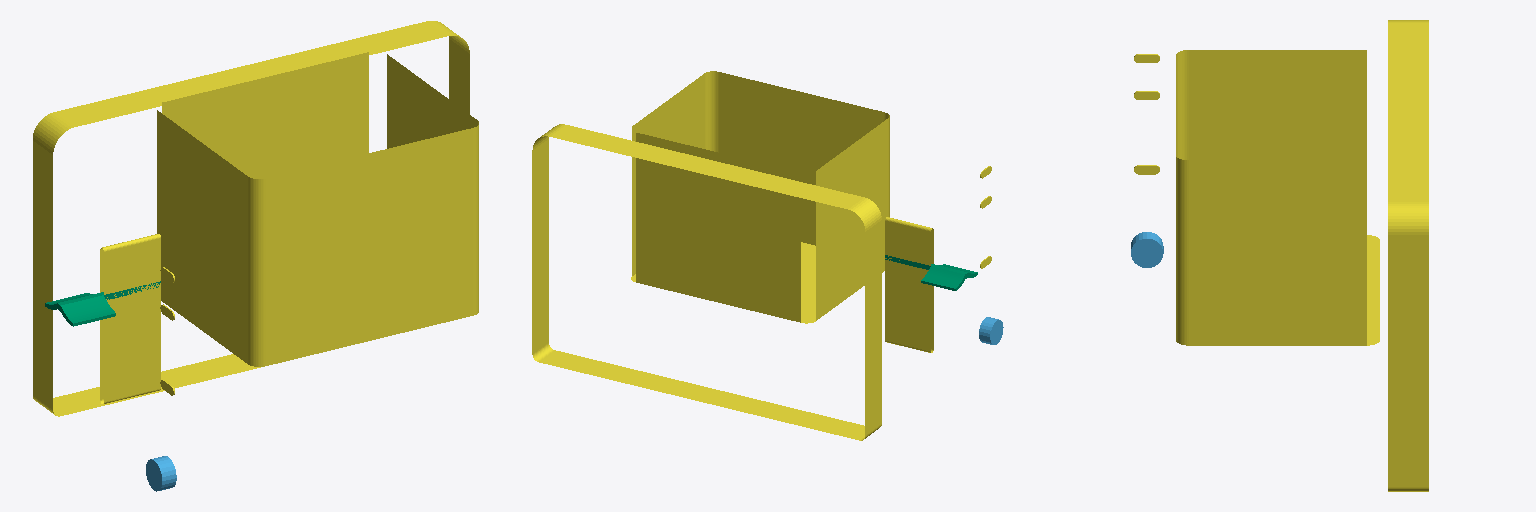
URDF robot description (partnet_5cc5ebd0-9ada-43f9-a3cf-dc3018305176):
<?xml version="1.0" ?>
<robot name="partnet_5cc5ebd0-9ada-43f9-a3cf-dc3018305176">
	<link name="base"/>
	<link name="link_0">
		<visual name="button-3">
			<origin xyz="-0.39776 0.354722 0"/>
			<geometry>
				<mesh filename="textured_objs/original-16.obj"/>
			</geometry>
		</visual>
		<collision>
			<origin xyz="-0.39776 0.354722 0"/>
			<geometry>
				<mesh filename="textured_objs/original-16.obj"/>
			</geometry>
		</collision>
	</link>
	<joint name="joint_0" type="fixed">
		<origin xyz="0.39776 -0.354722 0"/>
		<axis xyz="0 0 1"/>
		<child link="link_0"/>
		<parent link="link_2"/>
	</joint>
	<link name="link_1">
		<visual name="slider-4">
			<origin xyz="0 0 0"/>
			<geometry>
				<mesh filename="textured_objs/original-11.obj"/>
			</geometry>
		</visual>
		<collision>
			<origin xyz="0 0 0"/>
			<geometry>
				<mesh filename="textured_objs/original-11.obj"/>
			</geometry>
		</collision>
	</link>
	<joint name="joint_1" type="fixed">
		<origin xyz="0 0 0"/>
		<axis xyz="0 -1 0"/>
		<child link="link_1"/>
		<parent link="link_2"/>
		<limit lower="-0.15600000000000014" upper="0.3440000000000001"/>
	</joint>
	<link name="link_2">
		<visual name="base_body-5">
			<origin xyz="0 0 0"/>
			<geometry>
				<mesh filename="textured_objs/original-21.obj"/>
			</geometry>
		</visual>
		<visual name="base_body-5">
			<origin xyz="0 0 0"/>
			<geometry>
				<mesh filename="textured_objs/original-22.obj"/>
			</geometry>
		</visual>
		<visual name="base_body-5">
			<origin xyz="0 0 0"/>
			<geometry>
				<mesh filename="textured_objs/original-4.obj"/>
			</geometry>
		</visual>
		<visual name="base_body-5">
			<origin xyz="0 0 0"/>
			<geometry>
				<mesh filename="textured_objs/original-3.obj"/>
			</geometry>
		</visual>
		<visual name="base_body-5">
			<origin xyz="0 0 0"/>
			<geometry>
				<mesh filename="textured_objs/original-2.obj"/>
			</geometry>
		</visual>
		<visual name="base_body-5">
			<origin xyz="0 0 0"/>
			<geometry>
				<mesh filename="textured_objs/original-8.obj"/>
			</geometry>
		</visual>
		<visual name="base_body-5">
			<origin xyz="0 0 0"/>
			<geometry>
				<mesh filename="textured_objs/original-13.obj"/>
			</geometry>
		</visual>
		<visual name="base_body-5">
			<origin xyz="0 0 0"/>
			<geometry>
				<mesh filename="textured_objs/original-9.obj"/>
			</geometry>
		</visual>
		<visual name="base_body-5">
			<origin xyz="0 0 0"/>
			<geometry>
				<mesh filename="textured_objs/original-5.obj"/>
			</geometry>
		</visual>
		<visual name="base_body-5">
			<origin xyz="0 0 0"/>
			<geometry>
				<mesh filename="textured_objs/original-6.obj"/>
			</geometry>
		</visual>
		<visual name="base_body-5">
			<origin xyz="0 0 0"/>
			<geometry>
				<mesh filename="textured_objs/original-15.obj"/>
			</geometry>
		</visual>
		<visual name="base_body-5">
			<origin xyz="0 0 0"/>
			<geometry>
				<mesh filename="textured_objs/original-23.obj"/>
			</geometry>
		</visual>
		<visual name="base_body-5">
			<origin xyz="0 0 0"/>
			<geometry>
				<mesh filename="textured_objs/original-18.obj"/>
			</geometry>
		</visual>
		<visual name="base_body-5">
			<origin xyz="0 0 0"/>
			<geometry>
				<mesh filename="textured_objs/original-12.obj"/>
			</geometry>
		</visual>
		<visual name="base_body-5">
			<origin xyz="0 0 0"/>
			<geometry>
				<mesh filename="textured_objs/original-7.obj"/>
			</geometry>
		</visual>
		<visual name="base_body-5">
			<origin xyz="0 0 0"/>
			<geometry>
				<mesh filename="textured_objs/original-10.obj"/>
			</geometry>
		</visual>
		<visual name="base_body-5">
			<origin xyz="0 0 0"/>
			<geometry>
				<mesh filename="textured_objs/original-14.obj"/>
			</geometry>
		</visual>
		<visual name="base_body-5">
			<origin xyz="0 0 0"/>
			<geometry>
				<mesh filename="textured_objs/original-19.obj"/>
			</geometry>
		</visual>
		<collision>
			<origin xyz="0 0 0"/>
			<geometry>
				<mesh filename="textured_objs/original-21.obj"/>
			</geometry>
		</collision>
		<collision>
			<origin xyz="0 0 0"/>
			<geometry>
				<mesh filename="textured_objs/original-22.obj"/>
			</geometry>
		</collision>
		<collision>
			<origin xyz="0 0 0"/>
			<geometry>
				<mesh filename="textured_objs/original-4.obj"/>
			</geometry>
		</collision>
		<collision>
			<origin xyz="0 0 0"/>
			<geometry>
				<mesh filename="textured_objs/original-3.obj"/>
			</geometry>
		</collision>
		<collision>
			<origin xyz="0 0 0"/>
			<geometry>
				<mesh filename="textured_objs/original-2.obj"/>
			</geometry>
		</collision>
		<collision>
			<origin xyz="0 0 0"/>
			<geometry>
				<mesh filename="textured_objs/original-8.obj"/>
			</geometry>
		</collision>
		<collision>
			<origin xyz="0 0 0"/>
			<geometry>
				<mesh filename="textured_objs/original-13.obj"/>
			</geometry>
		</collision>
		<collision>
			<origin xyz="0 0 0"/>
			<geometry>
				<mesh filename="textured_objs/original-9.obj"/>
			</geometry>
		</collision>
		<collision>
			<origin xyz="0 0 0"/>
			<geometry>
				<mesh filename="textured_objs/original-5.obj"/>
			</geometry>
		</collision>
		<collision>
			<origin xyz="0 0 0"/>
			<geometry>
				<mesh filename="textured_objs/original-6.obj"/>
			</geometry>
		</collision>
		<collision>
			<origin xyz="0 0 0"/>
			<geometry>
				<mesh filename="textured_objs/original-15.obj"/>
			</geometry>
		</collision>
		<collision>
			<origin xyz="0 0 0"/>
			<geometry>
				<mesh filename="textured_objs/original-23.obj"/>
			</geometry>
		</collision>
		<collision>
			<origin xyz="0 0 0"/>
			<geometry>
				<mesh filename="textured_objs/original-18.obj"/>
			</geometry>
		</collision>
		<collision>
			<origin xyz="0 0 0"/>
			<geometry>
				<mesh filename="textured_objs/original-12.obj"/>
			</geometry>
		</collision>
		<collision>
			<origin xyz="0 0 0"/>
			<geometry>
				<mesh filename="textured_objs/original-7.obj"/>
			</geometry>
		</collision>
		<collision>
			<origin xyz="0 0 0"/>
			<geometry>
				<mesh filename="textured_objs/original-10.obj"/>
			</geometry>
		</collision>
		<collision>
			<origin xyz="0 0 0"/>
			<geometry>
				<mesh filename="textured_objs/original-14.obj"/>
			</geometry>
		</collision>
		<collision>
			<origin xyz="0 0 0"/>
			<geometry>
				<mesh filename="textured_objs/original-19.obj"/>
			</geometry>
		</collision>
	</link>
	<joint name="joint_2" type="prismatic">
		<origin rpy="1.570796326794897 0 -1.570796326794897" xyz="0 0 0"/>
		<axis xyz="0 0 -1"/>
		<child link="link_2"/>
		<parent link="base"/>
		<limit lower="0" upper="0.3"/>
	</joint>
</robot>

--- What the picture shows (computed from the rendered views, not written in the file) ---
3 views of the same robot in one strip: view 1: azimuth 30°, elevation 25°; view 2: azimuth 150°, elevation 25°; view 3: azimuth 270°, elevation 25° (orthographic).
Robot: partnet_5cc5ebd0-9ada-43f9-a3cf-dc3018305176 — 4 links, 3 joints (1 prismatic, 2 fixed); root link base; default pose: every joint at zero.
Visible links, largest first — view 1: link_2, link_1, link_0; view 2: link_2, link_1, link_0; view 3: link_2, link_0.
Boxes of the visible links, x1,y1,x2,y2 form: link_2: [33, 21, 478, 416]; link_1: [45, 281, 160, 326]; link_0: [146, 456, 176, 491]; link_2: [532, 71, 991, 440]; link_1: [885, 255, 977, 290]; link_0: [979, 317, 1003, 344]; link_2: [1134, 20, 1428, 491]; link_0: [1131, 232, 1163, 267].
Bounding box of the posed robot: 1.64 × 0.9186 × 0.9815 m (x, y, z).
10 mesh visuals loaded from 20 distinct referenced files (10 OBJ); not drawn: 10 (reference not matched to a file when rendering).
